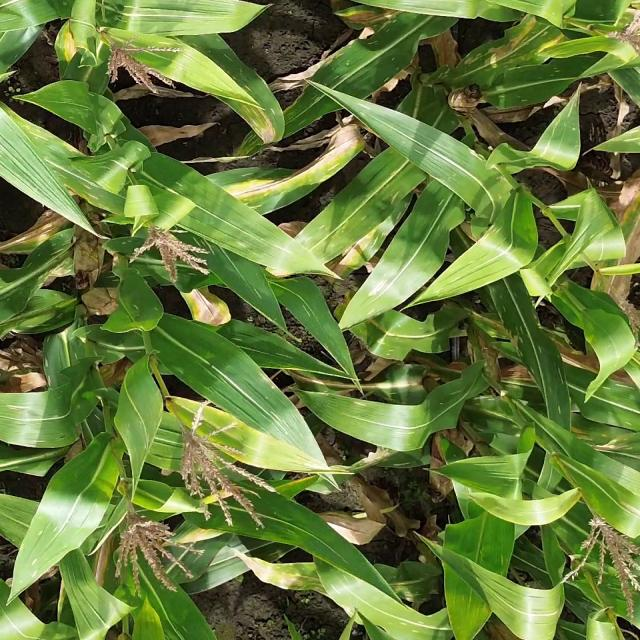gray-leaf-spot: (497, 294, 567, 392), (300, 56, 404, 99), (193, 32, 257, 95), (44, 144, 100, 200), (11, 242, 75, 290), (364, 316, 426, 360), (35, 333, 85, 387), (26, 518, 70, 578), (306, 210, 372, 248), (284, 274, 334, 322), (467, 217, 512, 269), (7, 402, 62, 443), (594, 374, 637, 426), (64, 96, 126, 132), (509, 70, 566, 106), (256, 398, 304, 438), (230, 332, 296, 361), (189, 234, 242, 270), (321, 562, 372, 599), (362, 262, 398, 314), (462, 43, 534, 68), (240, 100, 283, 132), (387, 610, 432, 639), (392, 577, 437, 605), (383, 187, 413, 219)
northern-leaf-blight: (226, 154, 336, 203), (304, 363, 437, 399), (58, 26, 97, 79)
